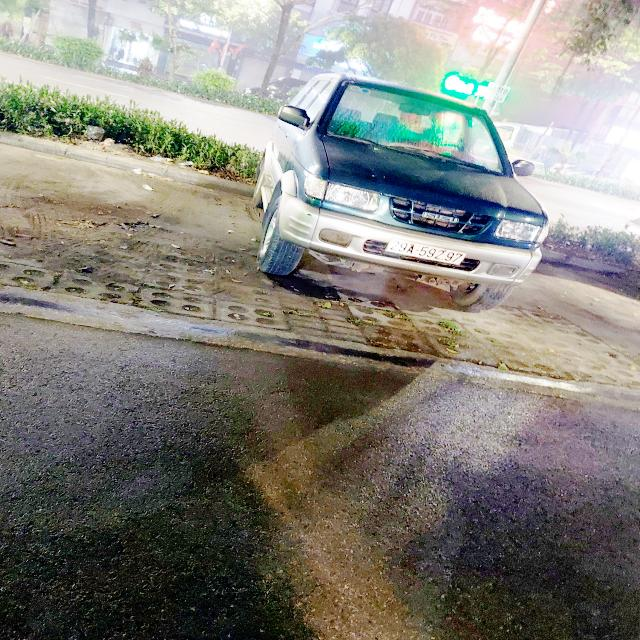license_plate: (385, 238, 469, 267)
